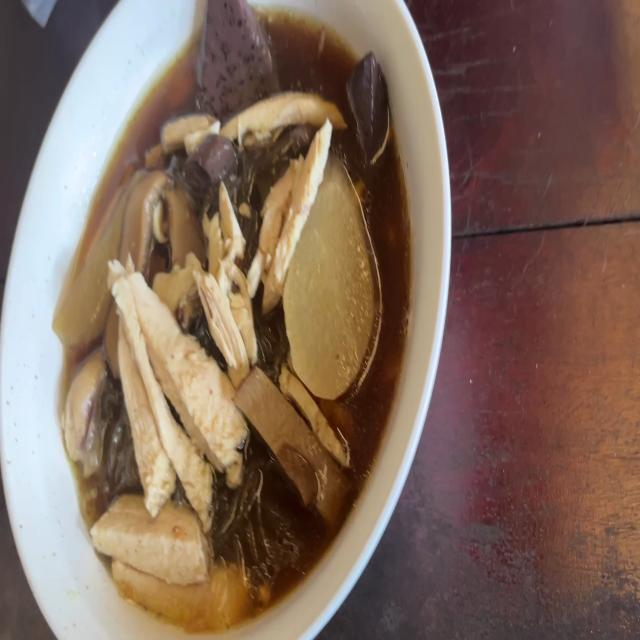noodle: (192, 0, 278, 110), (350, 53, 388, 152), (186, 144, 229, 190)
